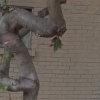Statue: (4, 3, 68, 97)
